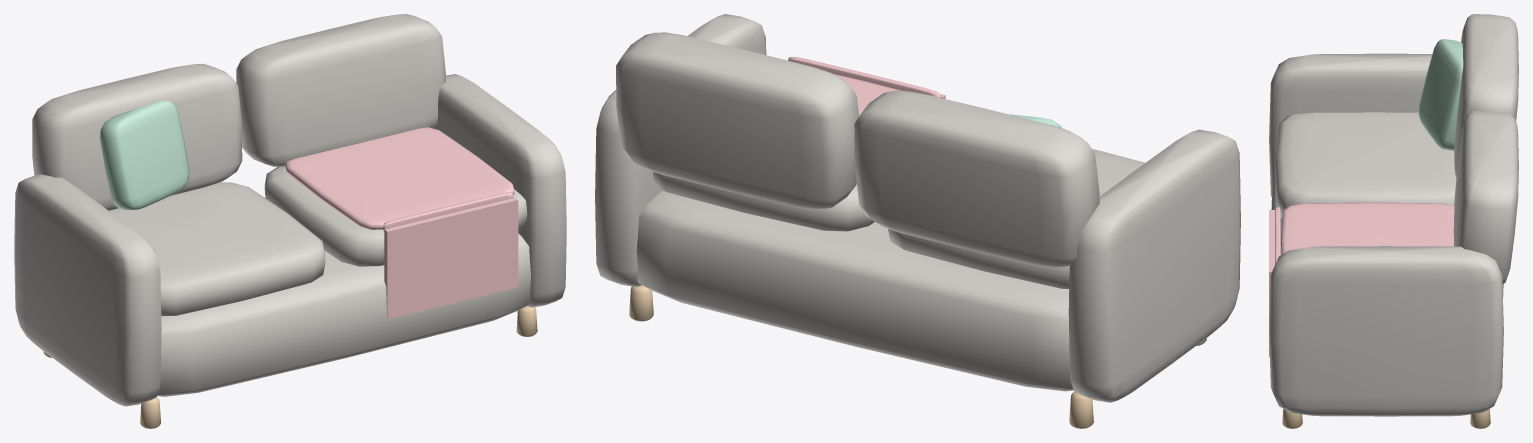
File: companion-animals-and-pet-home-sofa-with-blanket-8ae2852d__20675.glb
3 renders of one model, left to right at view 1: azimuth 30°, elevation 25°; view 2: azimuth 150°, elevation 25°; view 3: azimuth 270°, elevation 25°, orthographic. The views are drawn at different scales.
Visible parts, largest first — view 1: sofa-with-blanket; view 2: sofa-with-blanket; view 3: sofa-with-blanket.
Part boxes in pixels (x1,y1,x2,y2): sofa-with-blanket: [14, 14, 566, 428]; sofa-with-blanket: [595, 14, 1240, 428]; sofa-with-blanket: [1269, 14, 1518, 428].
Bounding box in the file's own units: 1.7 × 0.9011 × 0.851.
